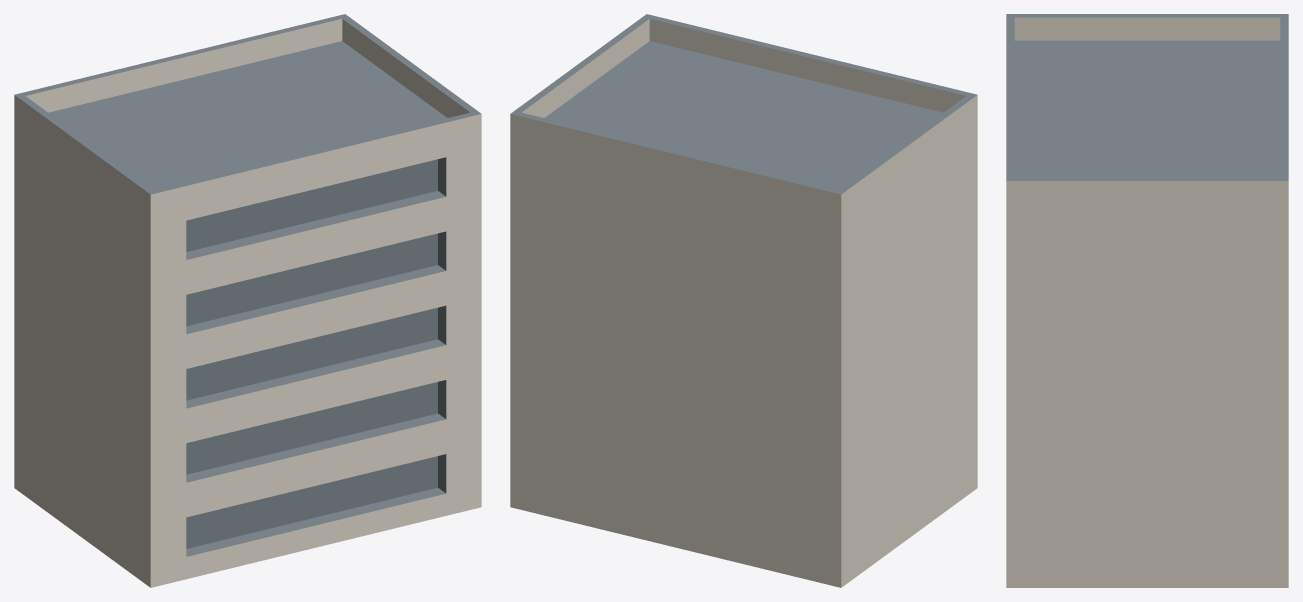
File: bld_smoke_5f.glb
The picture shows the model from 3 angles, left to right: view 1: azimuth 30°, elevation 25°; view 2: azimuth 150°, elevation 25°; view 3: azimuth 270°, elevation 25°; orthographic projection. The views are drawn at different scales.
Visible parts, largest first — view 1: bld_block_5f; view 2: bld_block_5f; view 3: bld_block_5f.
Boxes of the visible parts, x1,y1,x2,y2 form: bld_block_5f: [14, 14, 481, 587]; bld_block_5f: [510, 14, 977, 587]; bld_block_5f: [1006, 14, 1288, 587].
Size of the model in its own units: 14 by 15.9 by 10.
